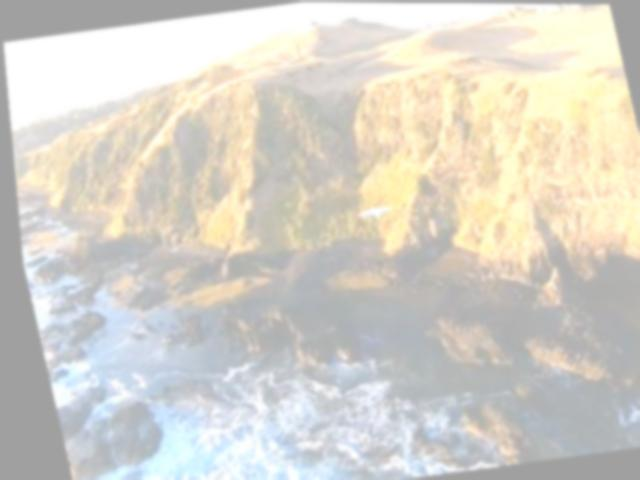uav: (345, 198, 398, 226)
